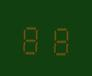eight: (45, 19, 70, 56), (19, 19, 44, 55)
